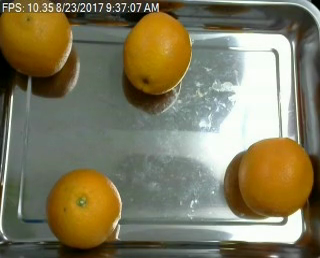Orange: (44, 169, 123, 248), (237, 138, 315, 216), (122, 11, 192, 93), (1, 1, 73, 77)
